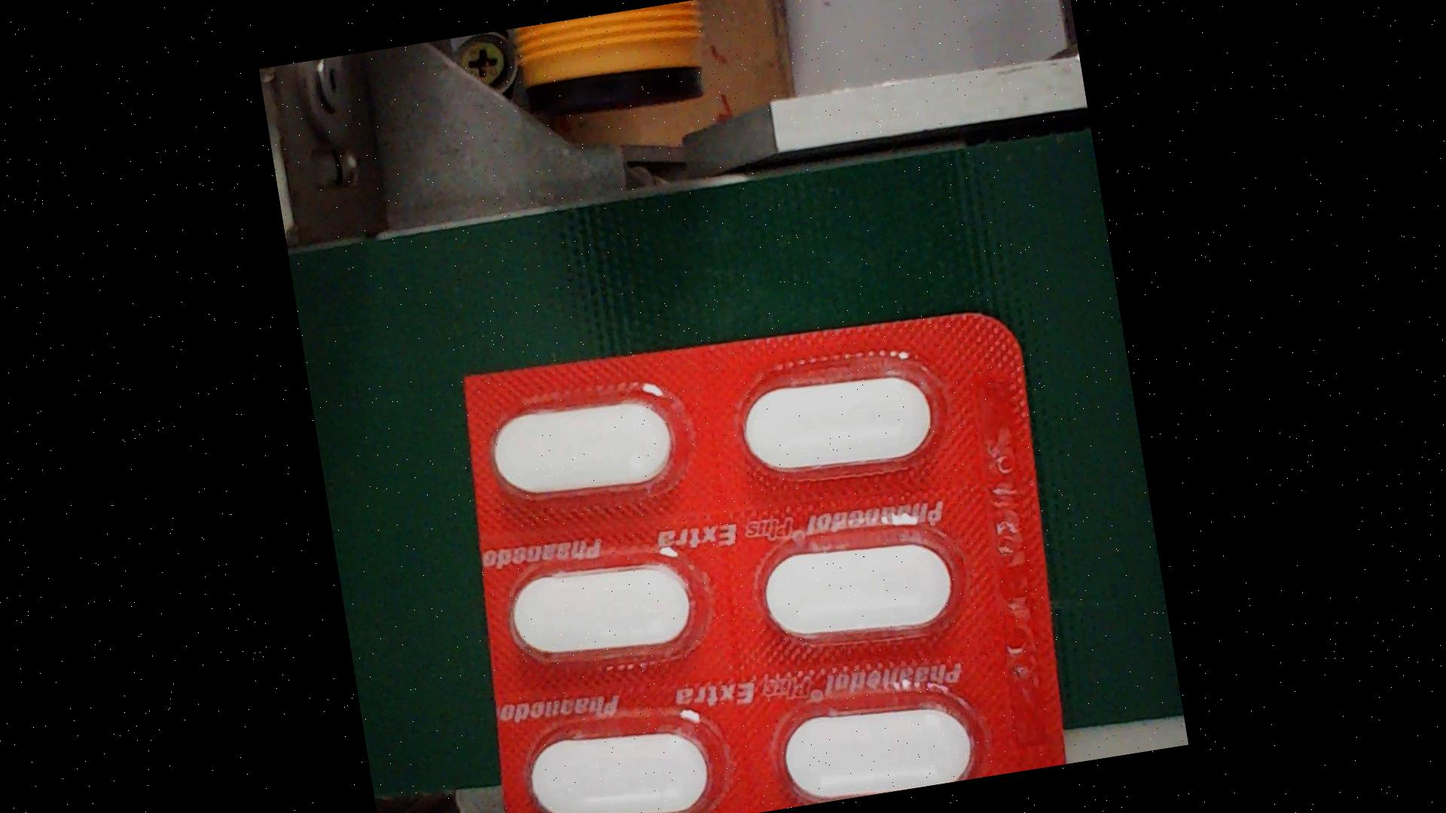Full: (501, 554, 708, 672), (755, 532, 962, 650), (479, 389, 686, 507), (733, 365, 939, 483), (775, 697, 980, 809), (520, 718, 726, 813)
